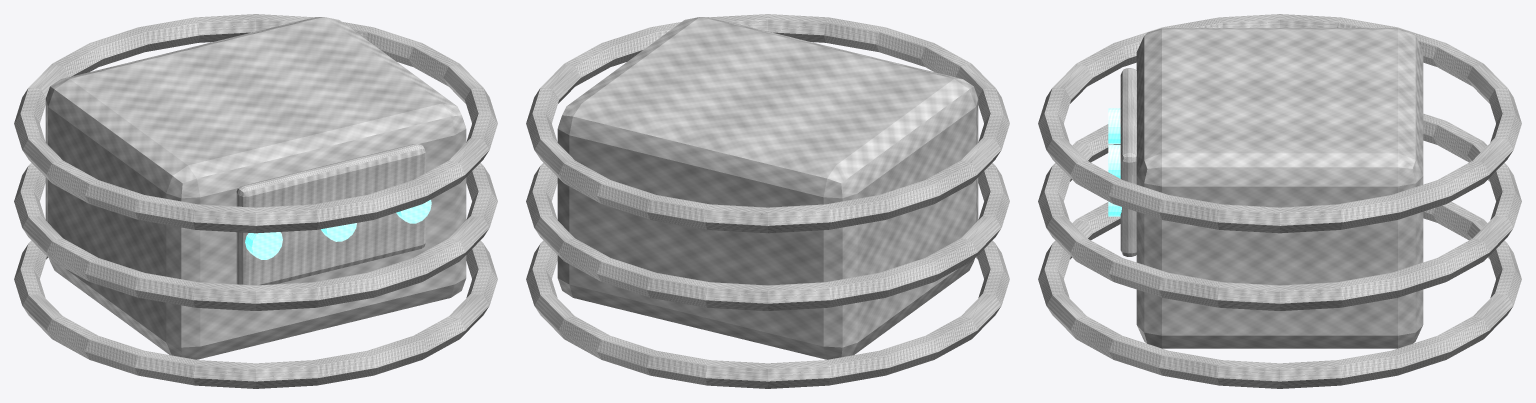
Rendered from item-raw-quartz_variant_c.glb.
The picture shows the model from 3 angles, left to right: view 1: azimuth 30°, elevation 25°; view 2: azimuth 150°, elevation 25°; view 3: azimuth 270°, elevation 25°; orthographic projection.
Parts seen in each view (by area): view 1: Component housing.003, Variant collar.002, Variant collar, Variant collar.001, Component faceplate.003, Face indicator.006, Face indicator.008, Face indicator.007; view 2: Component housing.003, Variant collar.002, Variant collar, Variant collar.001; view 3: Component housing.003, Variant collar.002, Variant collar.001, Variant collar, Component faceplate.003, Face indicator.006, Face indicator.007.
Boxes of the visible parts, x1,y1,x2,y2 form: Component housing.003: (45, 17, 466, 359); Variant collar.002: (14, 14, 497, 233); Variant collar: (14, 240, 497, 388); Variant collar.001: (14, 163, 497, 310); Component faceplate.003: (236, 144, 425, 285); Face indicator.006: (245, 232, 282, 259); Face indicator.008: (396, 199, 431, 223); Face indicator.007: (321, 223, 356, 241); Component housing.003: (557, 17, 978, 359); Variant collar.002: (526, 14, 1009, 233); Variant collar: (526, 240, 1009, 388); Variant collar.001: (526, 163, 1009, 310); Component housing.003: (1136, 28, 1423, 348); Variant collar.002: (1038, 14, 1521, 233); Variant collar.001: (1038, 113, 1521, 310); Variant collar: (1038, 201, 1521, 388); Component faceplate.003: (1120, 68, 1136, 256); Face indicator.006: (1108, 108, 1120, 143); Face indicator.007: (1108, 144, 1120, 178).
Size of what is drawn, in the model's own units: 0.676 by 0.3056 by 0.676.
4 materials, 4 textured.
